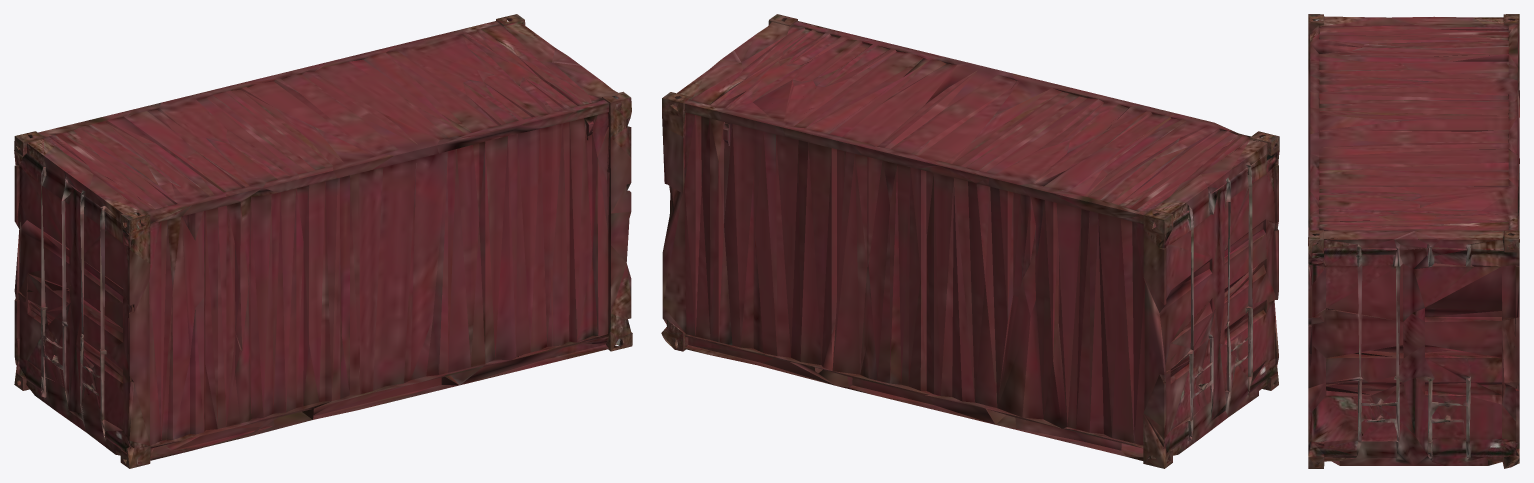
Rendered from conteneur.glb.
3 renders of one model, left to right at view 1: azimuth 30°, elevation 25°; view 2: azimuth 150°, elevation 25°; view 3: azimuth 270°, elevation 25°, orthographic. The views are drawn at different scales.
Visible parts, largest first — view 1: output_unwrapped; view 2: output_unwrapped; view 3: output_unwrapped.
Boxes of the visible parts, left/top/right/bottom form: output_unwrapped: left=14, top=14, right=632, bottom=468; output_unwrapped: left=661, top=14, right=1279, bottom=468; output_unwrapped: left=1308, top=14, right=1519, bottom=468.
Bounding box in the file's own units: 1.9 × 0.8963 × 0.7507.
1 material, 1 textured.
